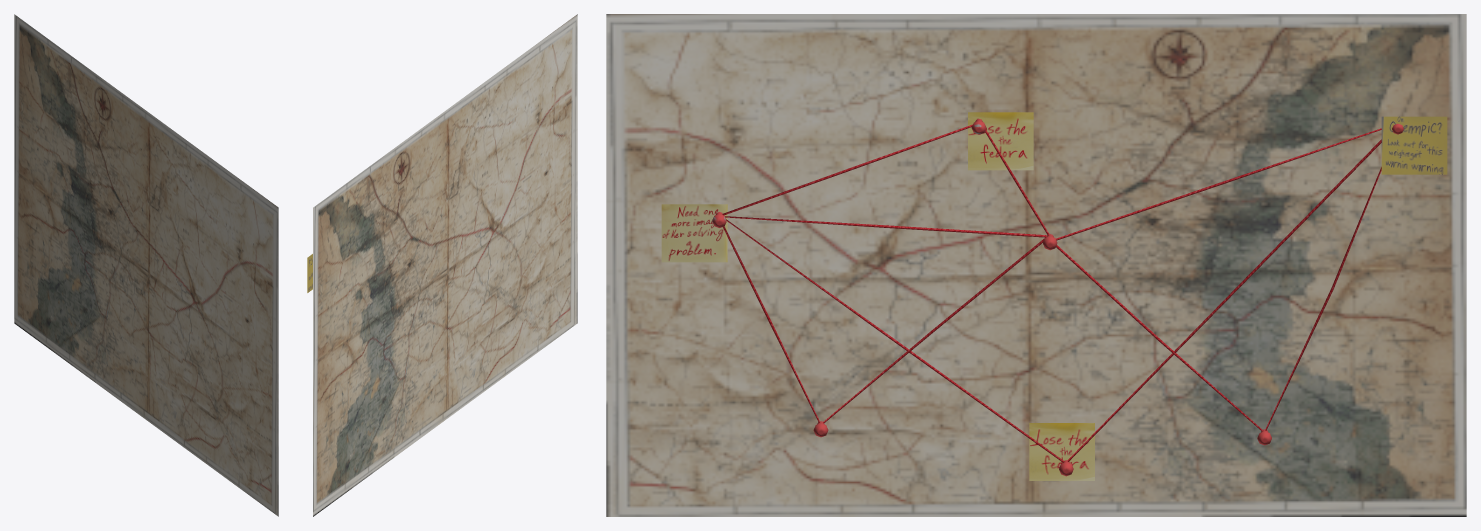
The model's file is Mapbig.obj.
3 views of the same model, side by side, from view 1: azimuth 30°, elevation 25°; view 2: azimuth 150°, elevation 25°; view 3: azimuth 270°, elevation 25° (orthographic). The views are drawn at different scales.
Visible parts, largest first — view 1: map.003; view 2: map.003; view 3: map.003.
Boxes of the visible parts, x1,y1,x2,y2 form: map.003: (14,14,278,516); map.003: (307,14,577,516); map.003: (606,14,1466,516).
Size of the model in its own units: 2.42 by 53.83 by 83.44.
